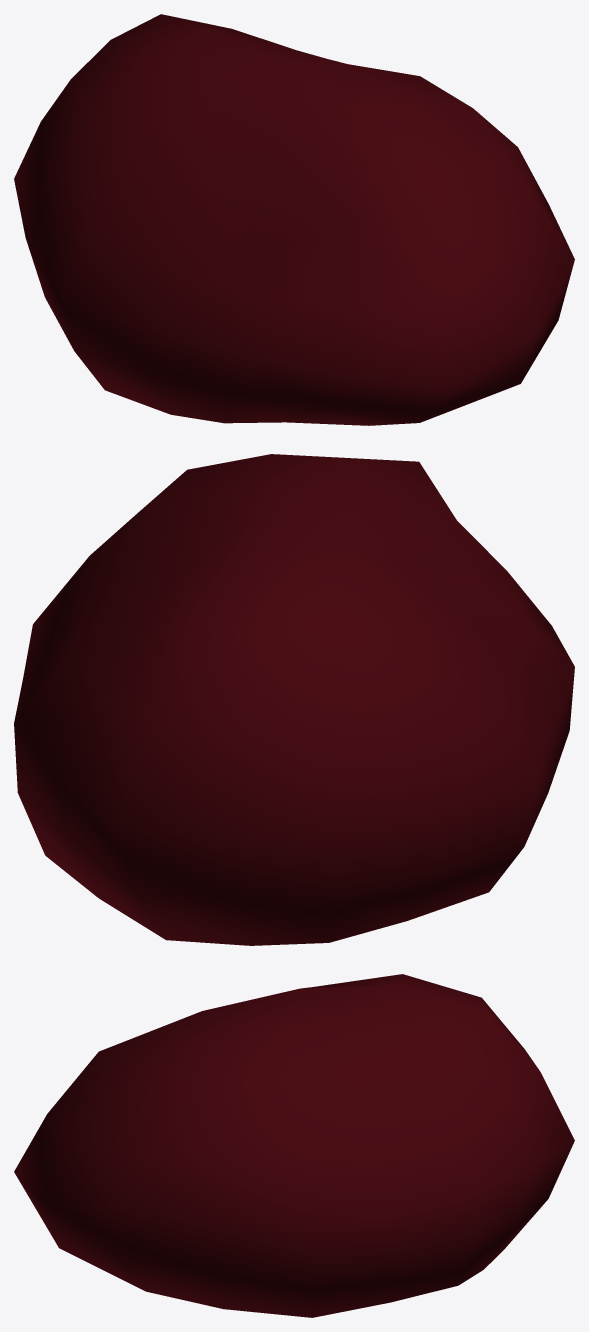
The model's file is Stone.fbx.
The picture shows the model from 3 angles, top to bottom: view 1: azimuth 30°, elevation 25°; view 2: azimuth 150°, elevation 25°; view 3: azimuth 270°, elevation 25°; orthographic projection. The views are drawn at different scales.
Parts seen in each view (by area): view 1: Stone_LOD0; view 2: Stone_LOD0; view 3: Stone_LOD0.
Part boxes in pixels (x1,y1,x2,y2): Stone_LOD0: (14, 14, 574, 425); Stone_LOD0: (14, 454, 574, 945); Stone_LOD0: (14, 974, 574, 1317).
Size of what is drawn, in the model's own units: 0.2763 by 0.1834 by 0.3543.
